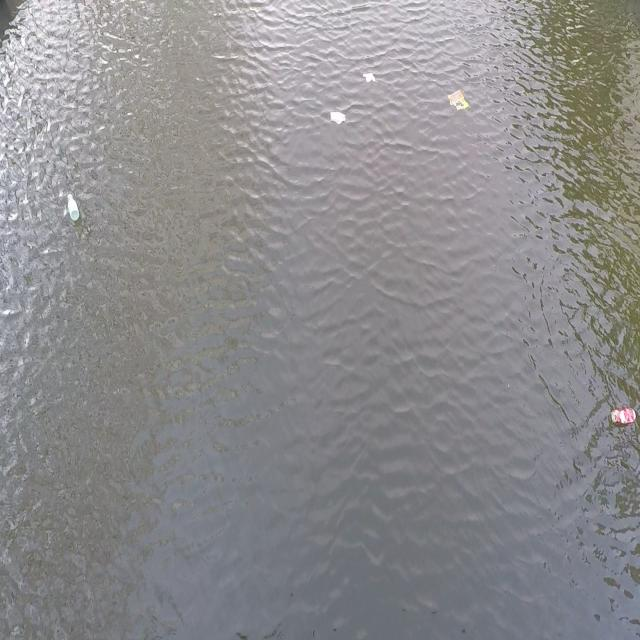Bouteille plastique: (66, 194, 80, 221)
Non plastique: (327, 110, 351, 128), (362, 72, 380, 87)
